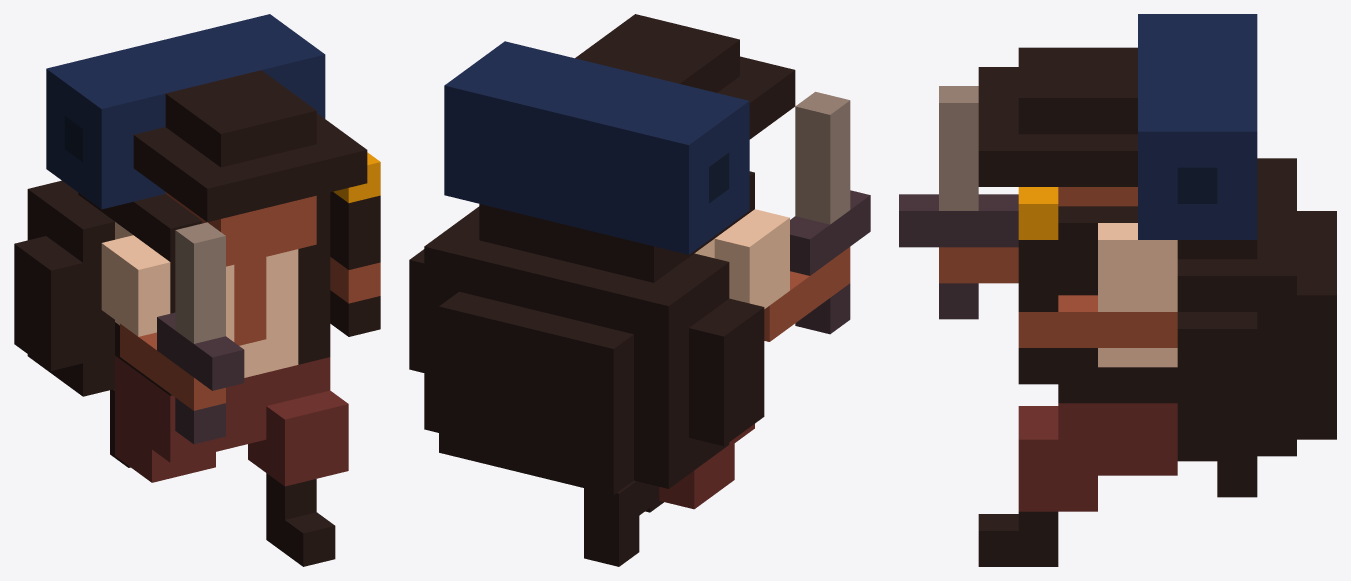
The model's file is adventurer_walk_2.obj.
3 renders of one model, left to right at view 1: azimuth 30°, elevation 25°; view 2: azimuth 150°, elevation 25°; view 3: azimuth 270°, elevation 25°, orthographic. The views are drawn at different scales.
Size of the model in its own units: 0.9 by 1.3 by 1.1.
1 material, 1 textured.
